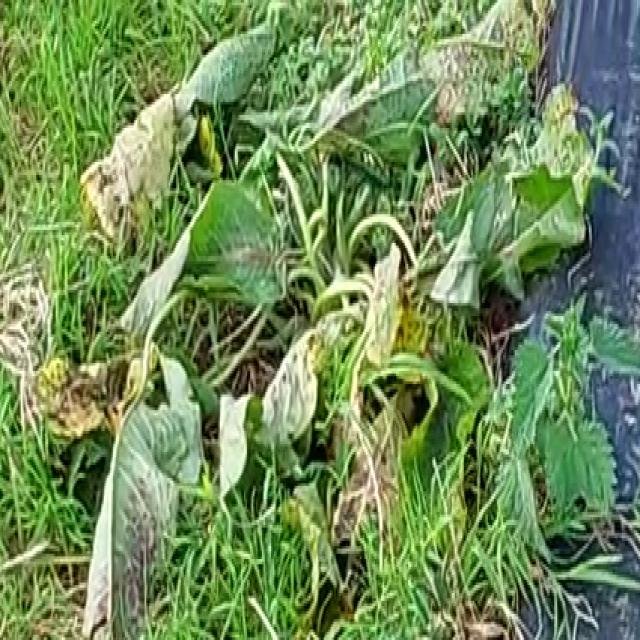organic waste: (41, 8, 601, 622)
